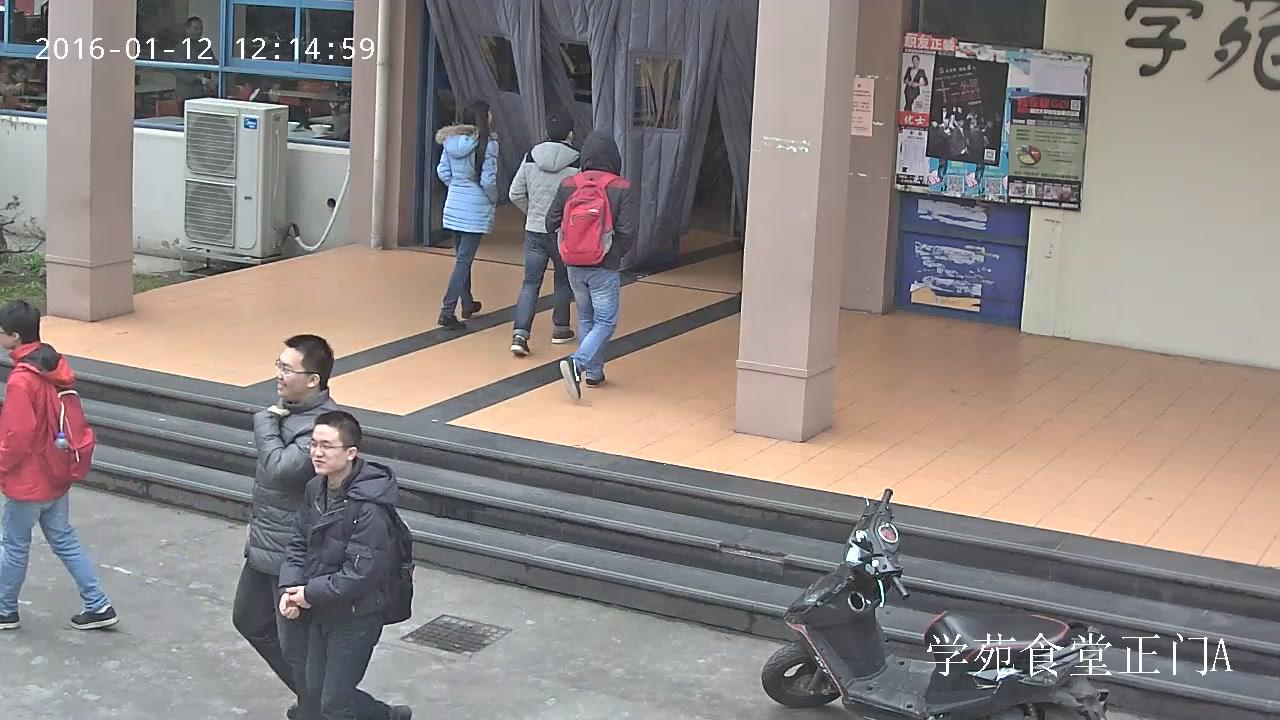person: (231, 334, 342, 720), (279, 410, 412, 720), (0, 299, 117, 630), (545, 131, 632, 399), (508, 112, 580, 356), (435, 99, 501, 328), (172, 15, 218, 117), (1, 64, 36, 108), (903, 53, 928, 113)
